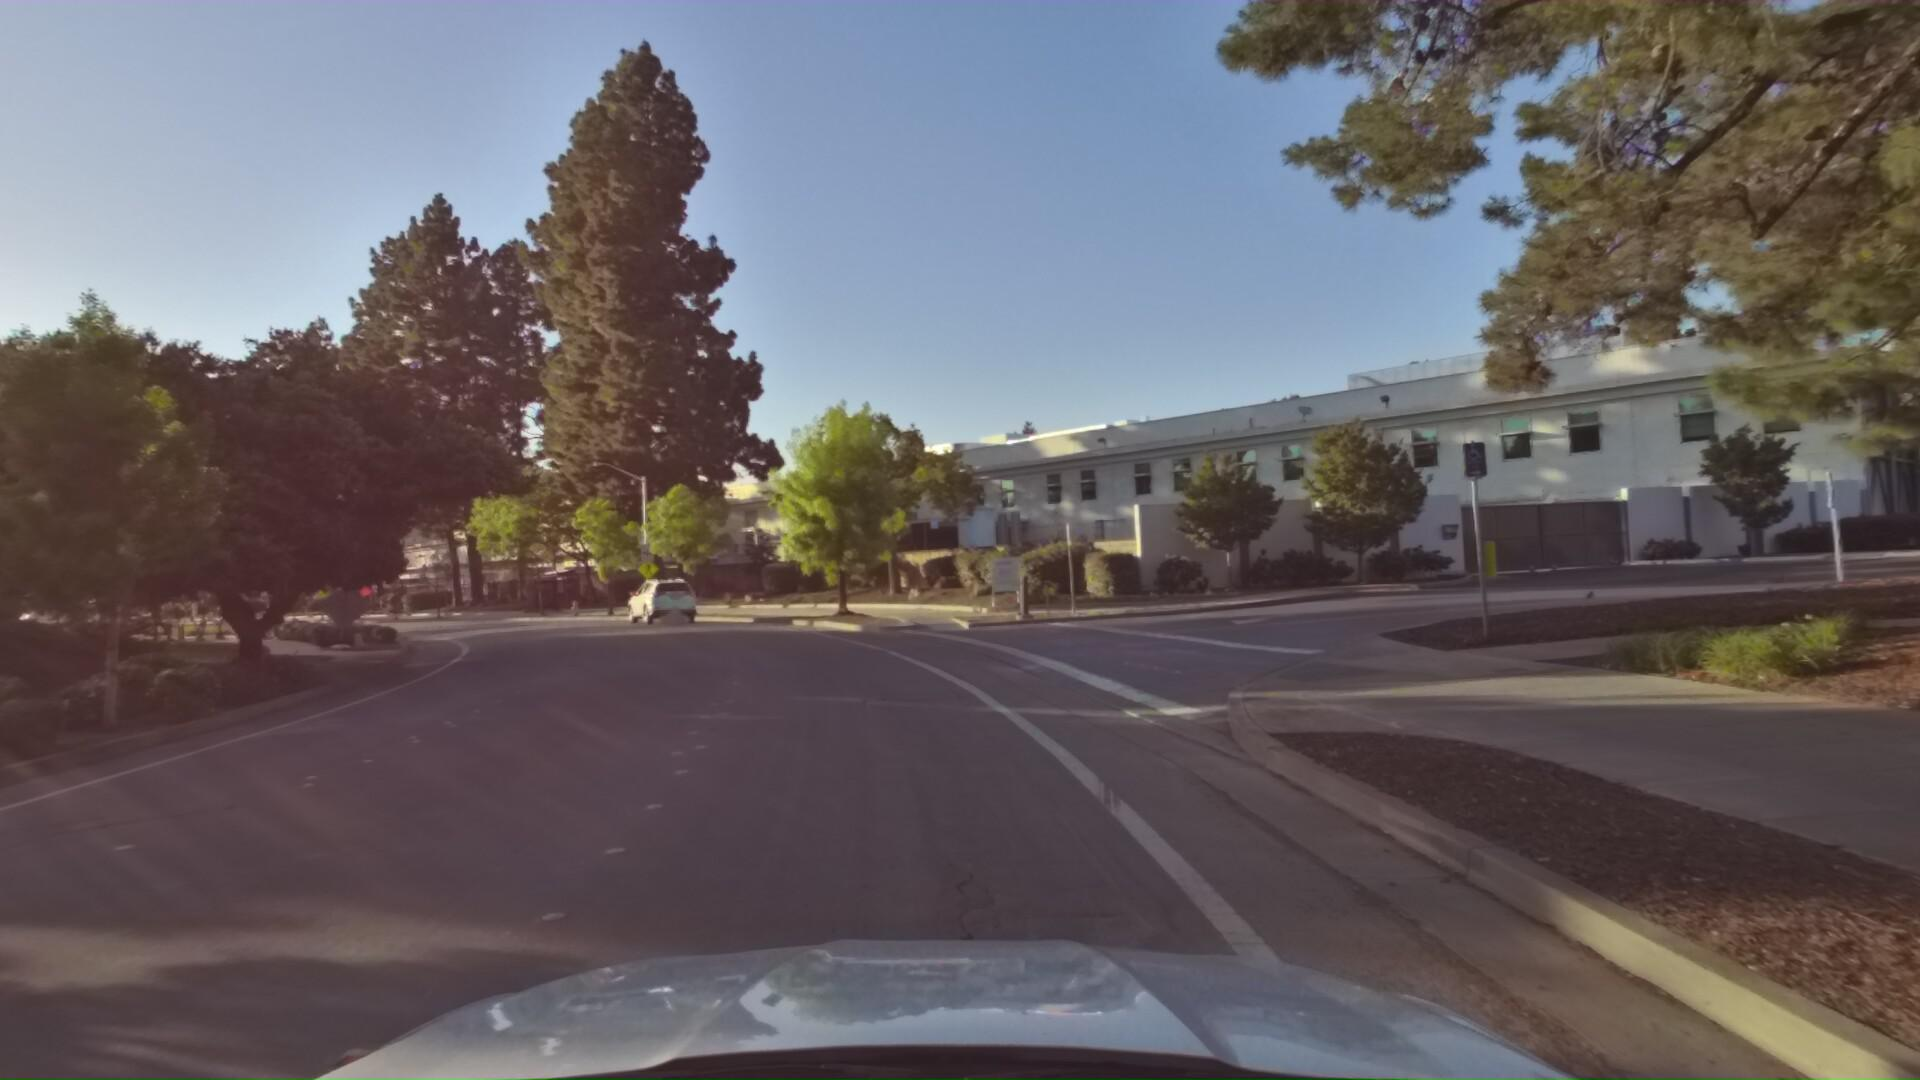car: (620, 575, 705, 629)
